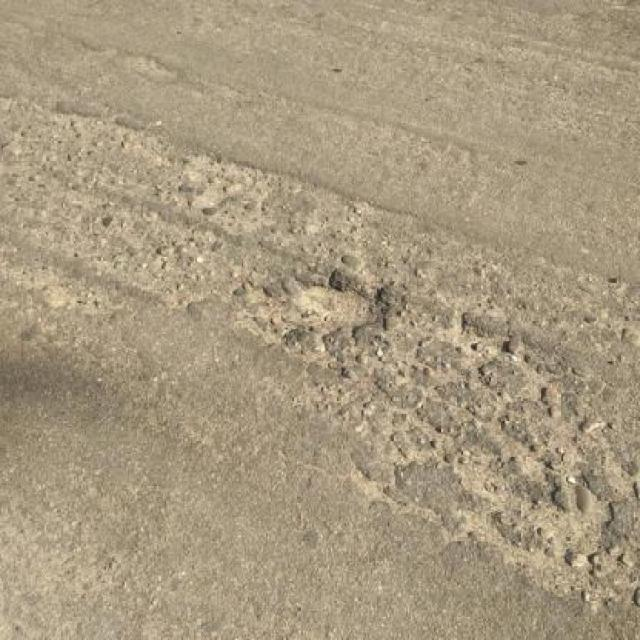Pothole: (288, 277, 389, 327)
